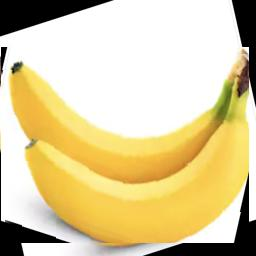Banana Fresh: (1, 48, 249, 244)
